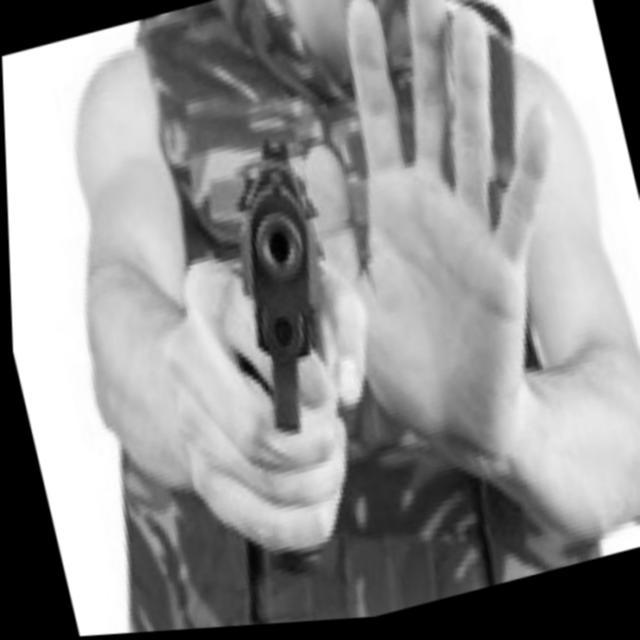weapon: (158, 102, 476, 597)
